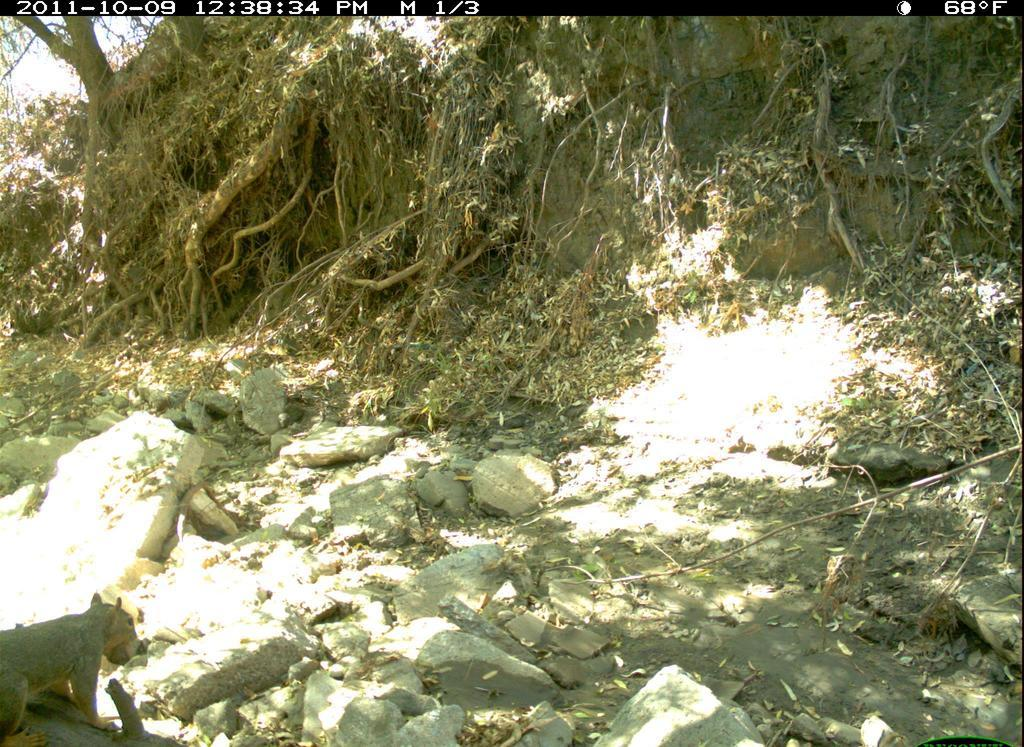squirrel: (2, 580, 161, 745)
